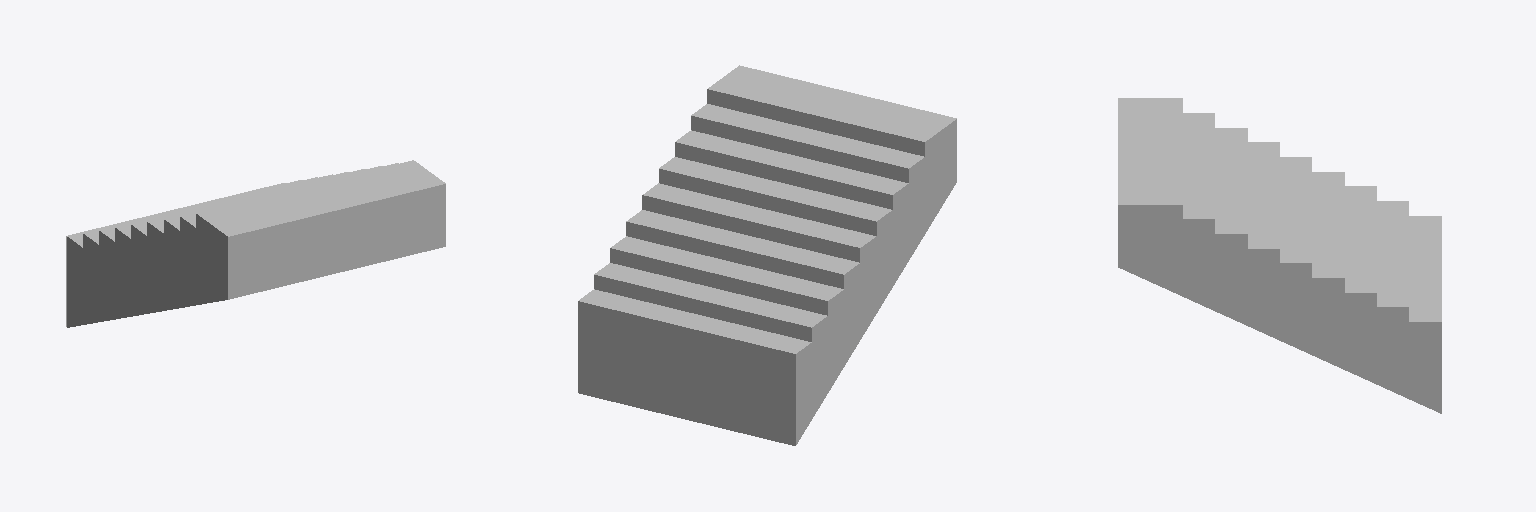
File: Stairs (94).obj
3 renders of one model, left to right at view 1: azimuth 30°, elevation 25°; view 2: azimuth 150°, elevation 25°; view 3: azimuth 270°, elevation 25°, orthographic.
Visible parts, largest first — view 1: Stairs (94); view 2: Stairs (94); view 3: Stairs (94).
Part boxes in pixels (x1,y1,x2,y2): Stairs (94): (66, 160, 445, 327); Stairs (94): (578, 65, 956, 445); Stairs (94): (1118, 98, 1441, 413).
Bounding box in the file's own units: 3.9 × 3.57 × 5.